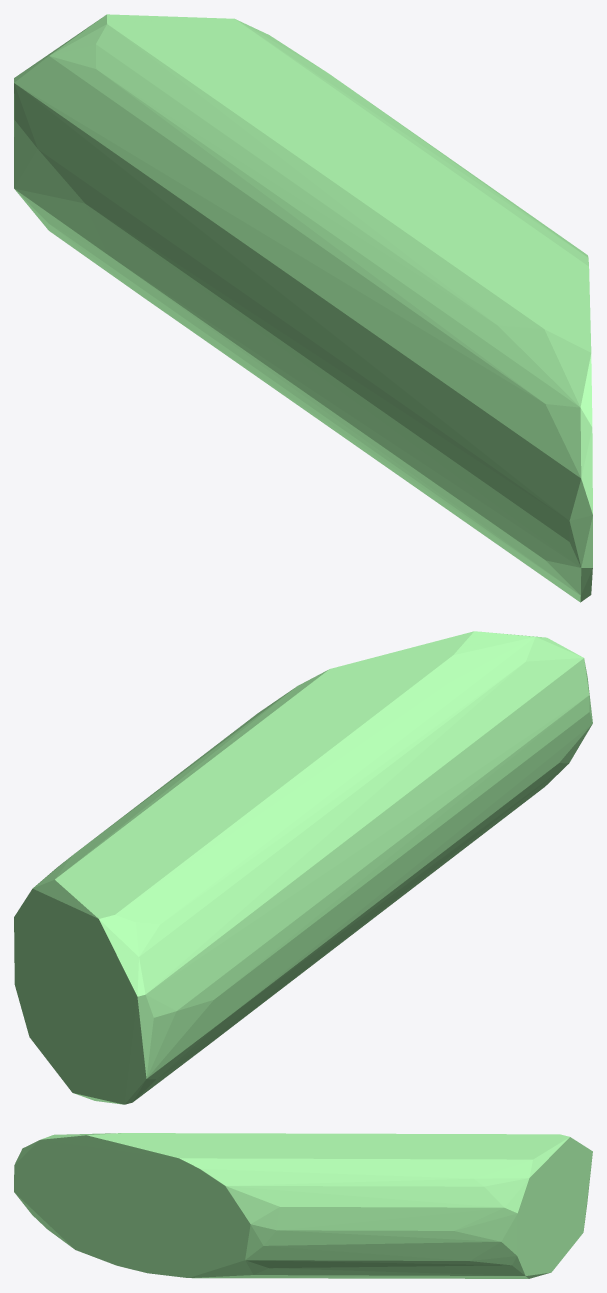
Rendered from dvkr_robot_R_link3_respondable_coll_3.dae.
3 renders of one model, top to bottom at view 1: azimuth 30°, elevation 25°; view 2: azimuth 150°, elevation 25°; view 3: azimuth 270°, elevation 25°, orthographic. The views are drawn at different scales.
Parts seen in each view (by area): view 1: Node_0000023514CD9290; view 2: Node_0000023514CD9290; view 3: Node_0000023514CD9290.
Part boxes in pixels (bbox=[...]): Node_0000023514CD9290: bbox=[14, 14, 592, 602]; Node_0000023514CD9290: bbox=[14, 631, 592, 1104]; Node_0000023514CD9290: bbox=[14, 1133, 592, 1278].
Size of the model in its own units: 0.1142 by 0.1084 by 0.4488.
